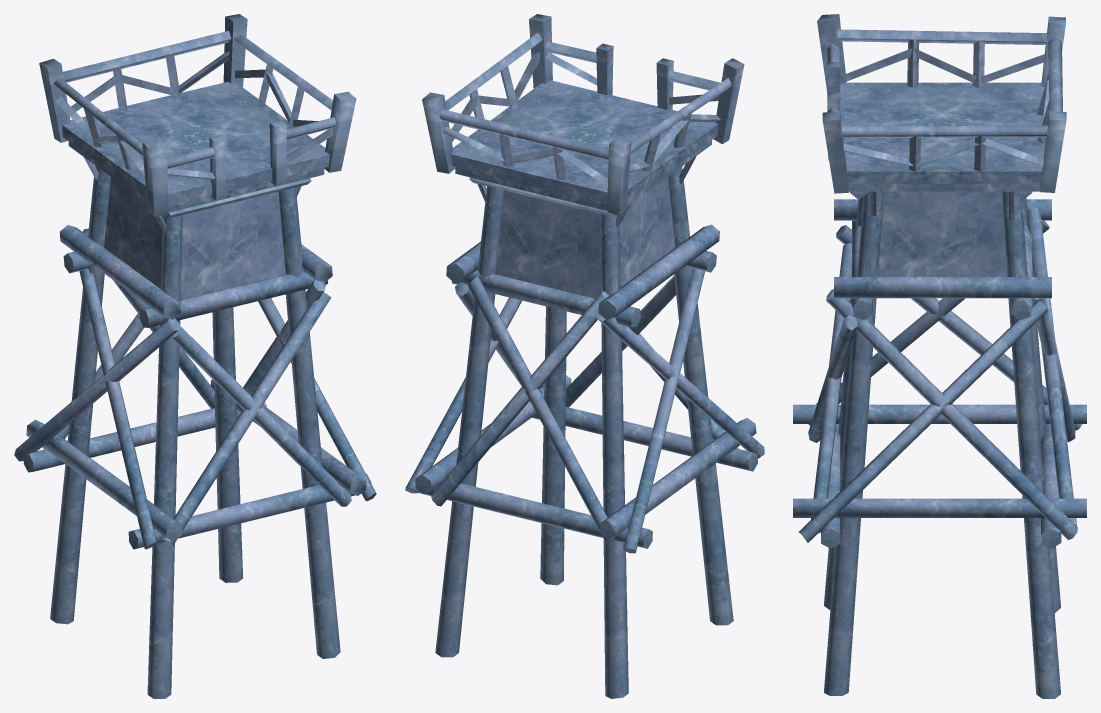
3 views of the same model, side by side, from view 1: azimuth 30°, elevation 25°; view 2: azimuth 150°, elevation 25°; view 3: azimuth 270°, elevation 25° (orthographic). The views are drawn at different scales.
Parts seen in each view (by area): view 1: UB010; view 2: UB010; view 3: UB010.
Part boxes in pixels (x1=…): UB010: x1=14, y1=14, x2=376, y2=698; UB010: x1=405, y1=14, x2=764, y2=698; UB010: x1=793, y1=14, x2=1086, y2=698.
Size of the model in its own units: 6.48 by 14.73 by 6.69.
